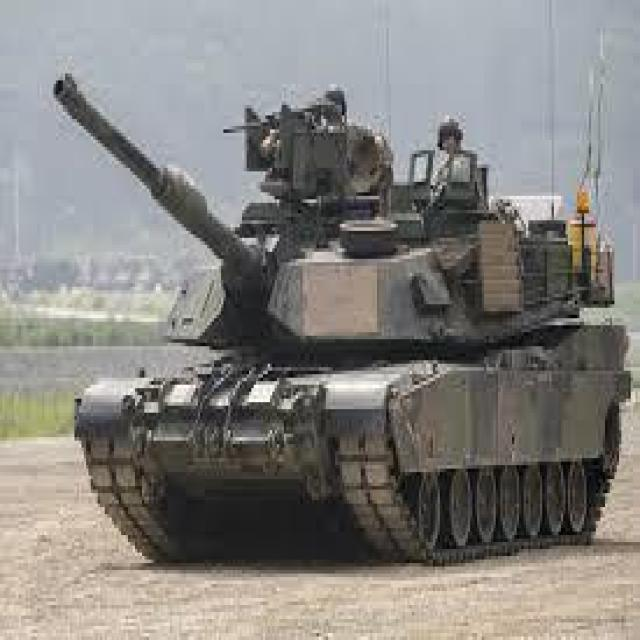Tanks: (44, 44, 626, 579)
